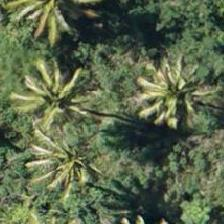coconut_tree: (23, 112, 113, 202), (131, 45, 221, 135), (8, 55, 98, 145)
